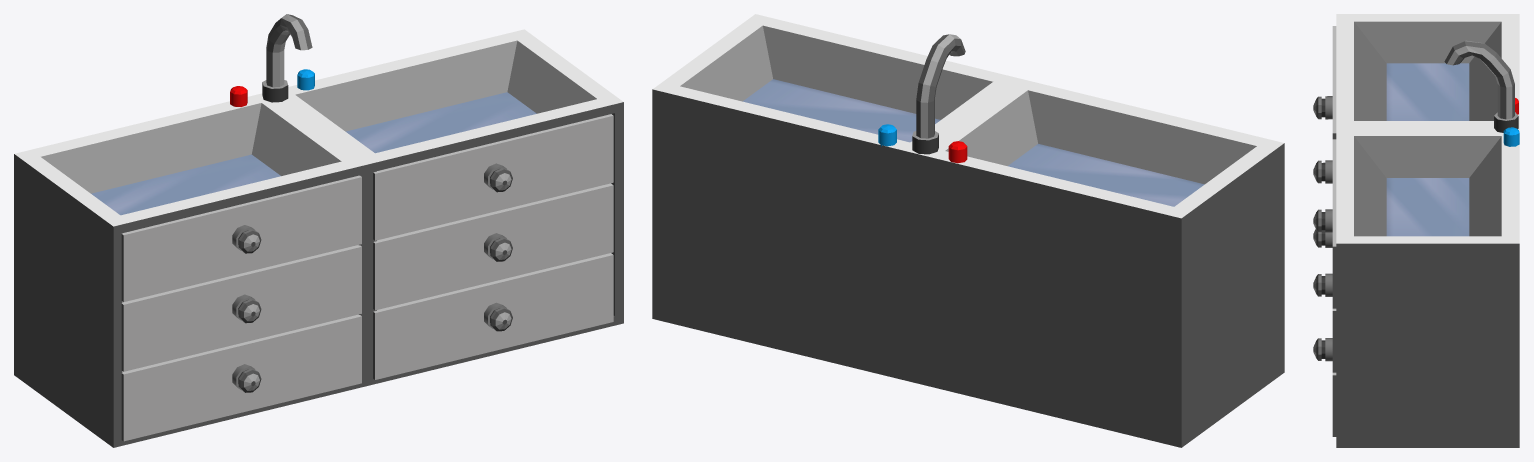
Rendered from Cabinet_Gray_Lower_Double_Sink.fbx.
The picture shows the model from 3 angles, left to right: view 1: azimuth 30°, elevation 25°; view 2: azimuth 150°, elevation 25°; view 3: azimuth 270°, elevation 25°; orthographic projection. The views are drawn at different scales.
Visible parts, largest first — view 1: Cabinet_Gray_Lower_Double_Sink.001, Cabinet_Gray_Lower_Double_Sink001, Cabinet_Gray_Lower_Double_Sink002, Cabinet_Gray_Lower_Double_Sink004, Cabinet_Gray_Lower_Double_Sink005, Cabinet_Gray_Lower_Double_Sink, Cabinet_Gray_Lower_Double_Sink003; view 2: Cabinet_Gray_Lower_Double_Sink.001; view 3: Cabinet_Gray_Lower_Double_Sink.001, Cabinet_Gray_Lower_Double_Sink003, Cabinet_Gray_Lower_Double_Sink, Cabinet_Gray_Lower_Double_Sink004, Cabinet_Gray_Lower_Double_Sink005, Cabinet_Gray_Lower_Double_Sink001, Cabinet_Gray_Lower_Double_Sink002.
Part boxes in pixels (<box>): Cabinet_Gray_Lower_Double_Sink.001: <box>14,14,623,447</box>; Cabinet_Gray_Lower_Double_Sink001: <box>121,245,361,371</box>; Cabinet_Gray_Lower_Double_Sink002: <box>121,314,361,441</box>; Cabinet_Gray_Lower_Double_Sink004: <box>373,183,613,310</box>; Cabinet_Gray_Lower_Double_Sink005: <box>373,253,613,379</box>; Cabinet_Gray_Lower_Double_Sink: <box>121,175,361,302</box>; Cabinet_Gray_Lower_Double_Sink003: <box>373,114,613,240</box>; Cabinet_Gray_Lower_Double_Sink.001: <box>652,14,1284,447</box>; Cabinet_Gray_Lower_Double_Sink.001: <box>1336,14,1519,447</box>; Cabinet_Gray_Lower_Double_Sink003: <box>1313,139,1336,308</box>; Cabinet_Gray_Lower_Double_Sink: <box>1313,26,1336,139</box>; Cabinet_Gray_Lower_Double_Sink004: <box>1313,273,1336,372</box>; Cabinet_Gray_Lower_Double_Sink005: <box>1313,338,1336,436</box>; Cabinet_Gray_Lower_Double_Sink001: <box>1313,160,1332,183</box>; Cabinet_Gray_Lower_Double_Sink002: <box>1313,229,1332,247</box>.
Bounding box in the file's own units: 200 × 118 × 75.91.
